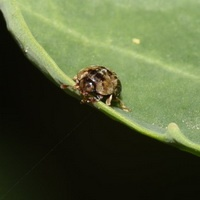insect: (73, 66, 130, 111)
